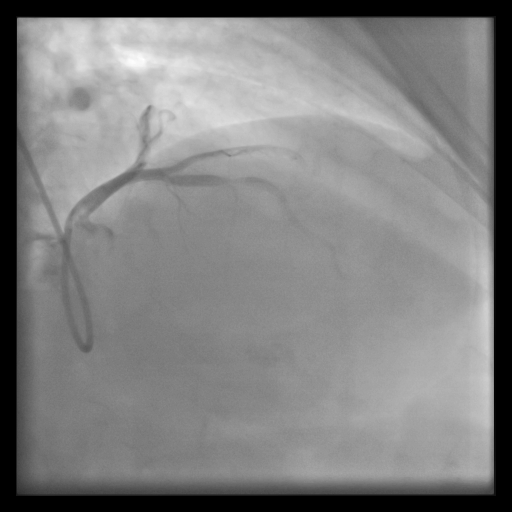Stenosis: (161, 173, 179, 187), (222, 174, 241, 186)
